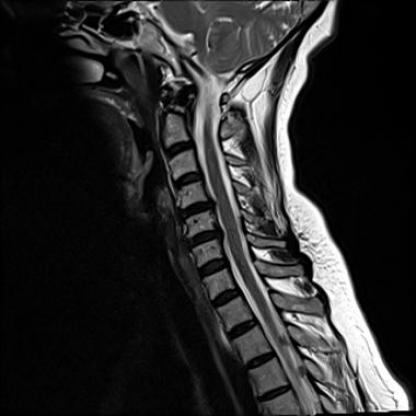Osteophytesrotation: (184, 227, 221, 248), (179, 201, 215, 218)
